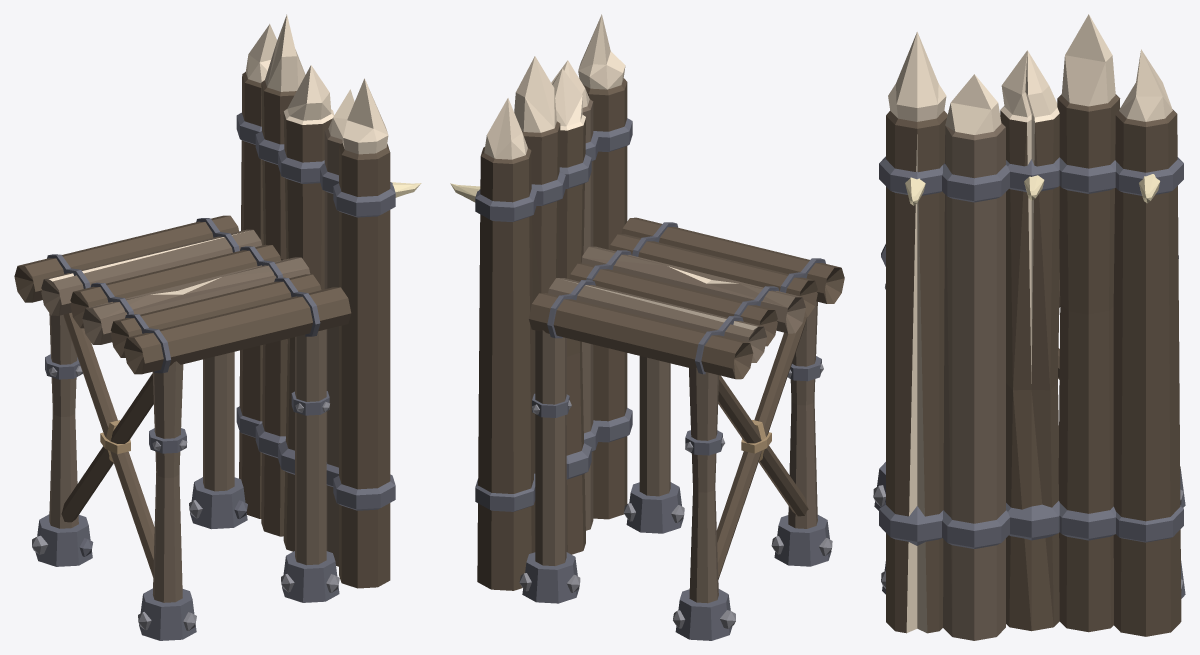
File: WALL_1_FULL.fbx
3 views of the same model, side by side, from view 1: azimuth 30°, elevation 25°; view 2: azimuth 150°, elevation 25°; view 3: azimuth 270°, elevation 25° (orthographic). The views are drawn at different scales.
Parts seen in each view (by area): view 1: WALL_1_PART_2_01, WALL_1_PART_1_01; view 2: WALL_1_PART_2_01, WALL_1_PART_1_01; view 3: WALL_1_PART_1_01, WALL_1_PART_2_01.
Boxes of the visible parts, <box> form: WALL_1_PART_2_01: <box>14,215,351,640</box>; WALL_1_PART_1_01: <box>236,14,421,588</box>; WALL_1_PART_2_01: <box>519,217,844,640</box>; WALL_1_PART_1_01: <box>450,14,632,590</box>; WALL_1_PART_1_01: <box>879,14,1183,640</box>; WALL_1_PART_2_01: <box>873,244,1185,598</box>.
Bounding box in the file's own units: 333 × 547 × 256.
